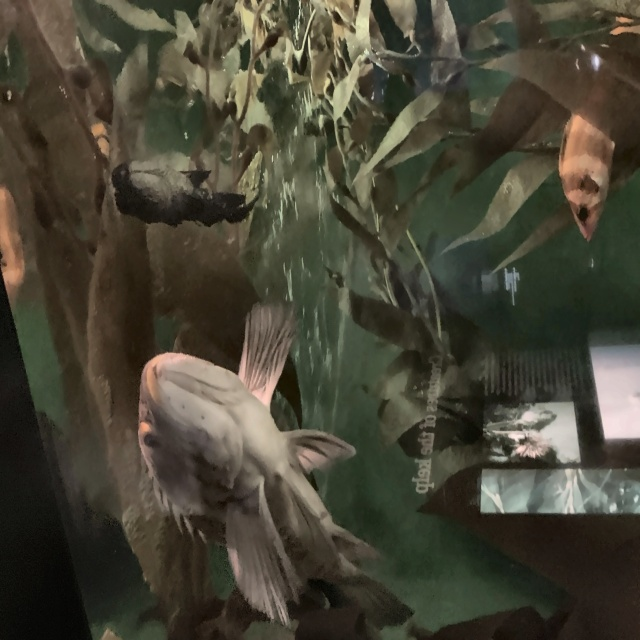fish: (136, 298, 417, 636), (557, 10, 639, 244), (113, 167, 209, 216)
